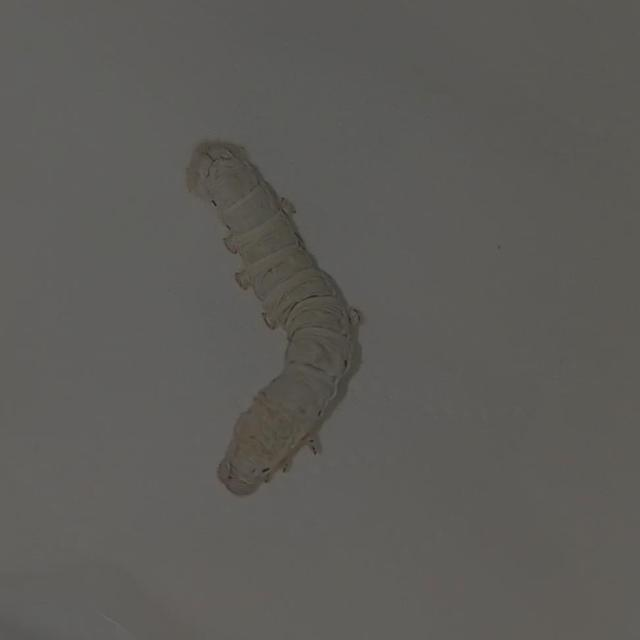Healthy: (170, 111, 378, 524)
